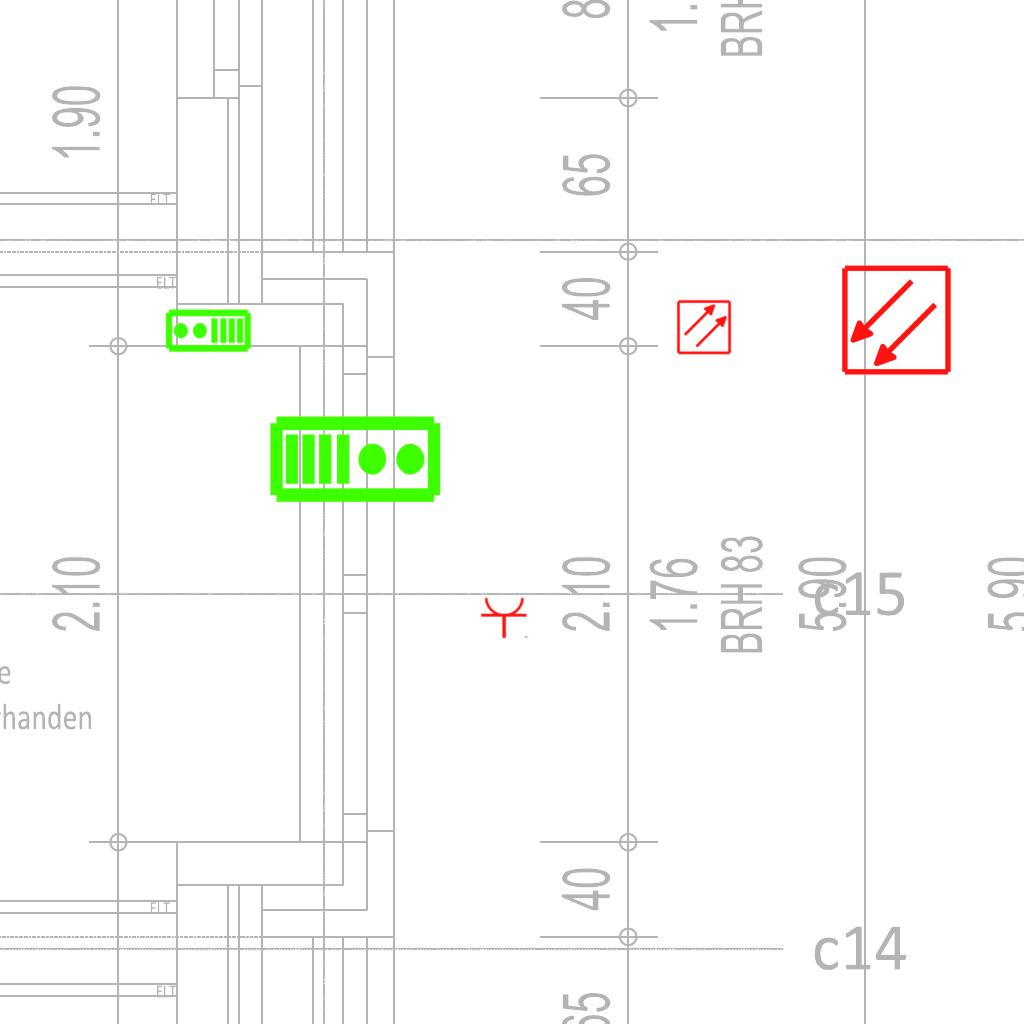Gegensprechanlage_mit_Video: (268, 410, 444, 505), (164, 308, 252, 355)
RMO_Rauchmelder_optischer: (840, 264, 953, 377), (676, 299, 732, 355)
Schukosteckdose_einfach: (480, 596, 530, 639)
